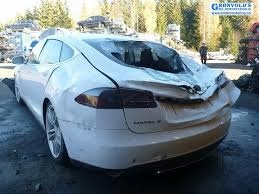Broken-glass: (102, 43, 185, 68)
Dent: (153, 68, 239, 123)
